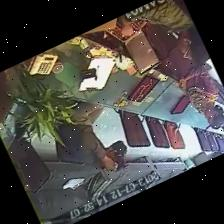person: (144, 23, 223, 128), (131, 0, 208, 65), (58, 101, 126, 171)
